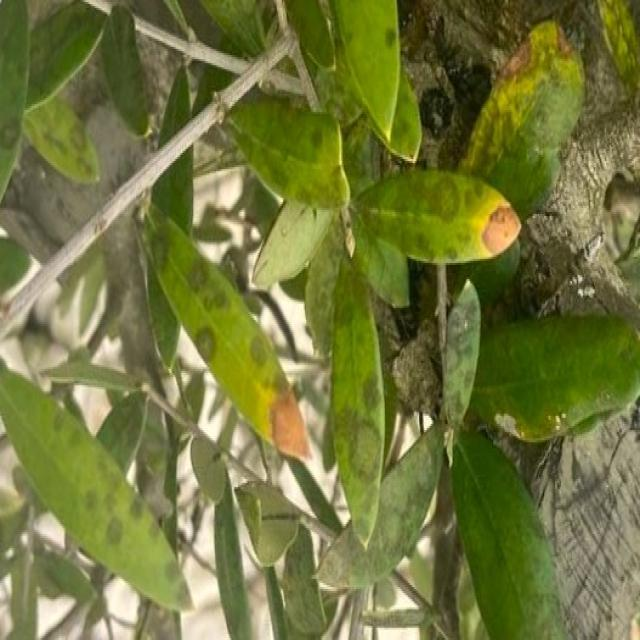OlivePeacockSpot: (0, 362, 191, 610), (146, 203, 308, 452), (462, 21, 584, 198), (356, 169, 522, 263), (332, 263, 385, 542), (228, 94, 348, 208), (23, 100, 95, 182)
